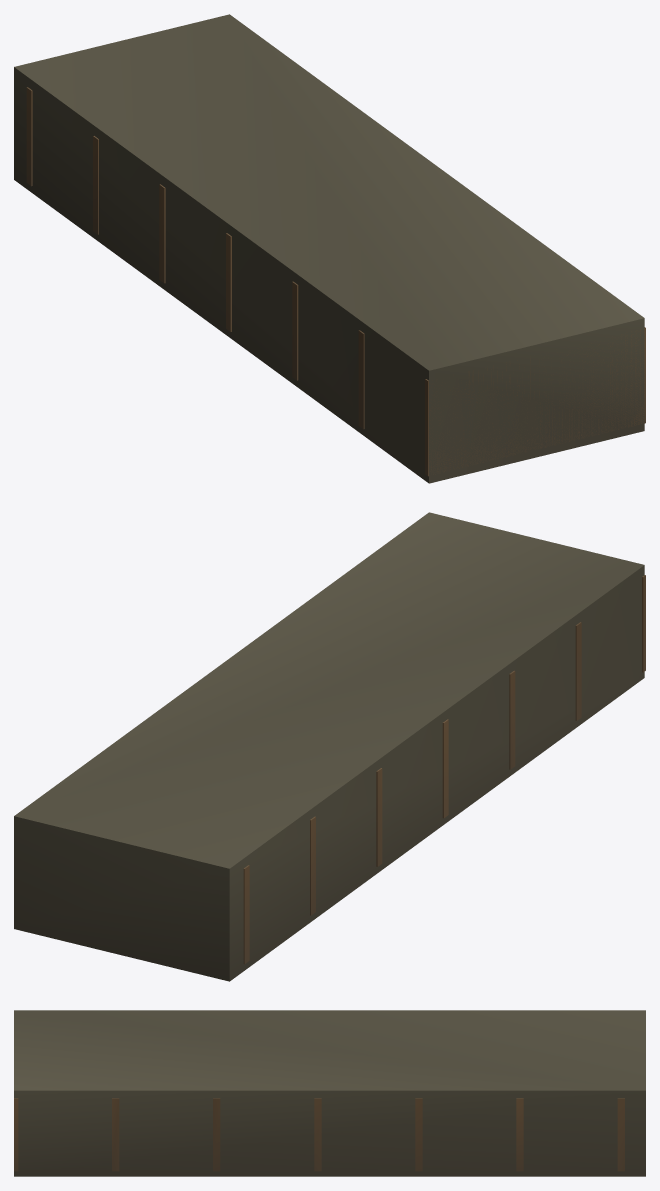
The model's file is m01_forward_post_destroyed_lod1.glb.
The picture shows the model from 3 angles, top to bottom: view 1: azimuth 30°, elevation 25°; view 2: azimuth 150°, elevation 25°; view 3: azimuth 270°, elevation 25°; orthographic projection. The views are drawn at different scales.
Visible parts, largest first — view 1: forward_post; view 2: forward_post; view 3: forward_post.
Part boxes in pixels (x1=…): forward_post: x1=14, y1=14, x2=645, y2=483; forward_post: x1=14, y1=512, x2=645, y2=981; forward_post: x1=14, y1=1010, x2=645, y2=1176.
Bounding box in the file's own units: 0.91 × 0.45 × 3.
